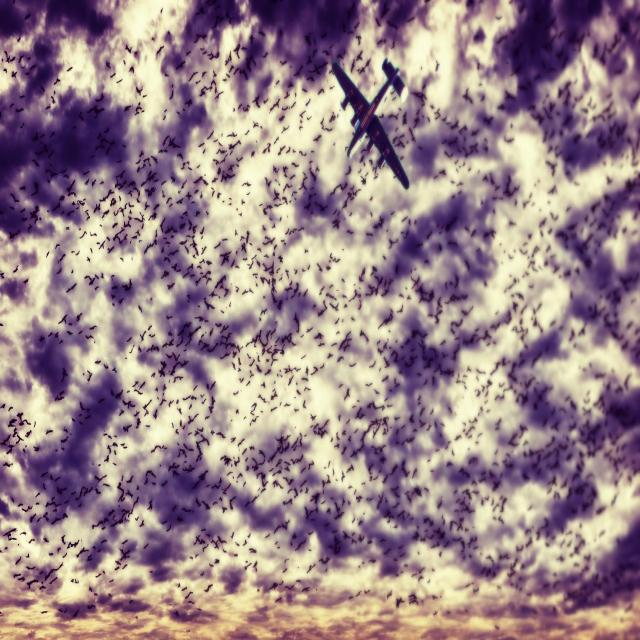airplane: (329, 57, 410, 190)
